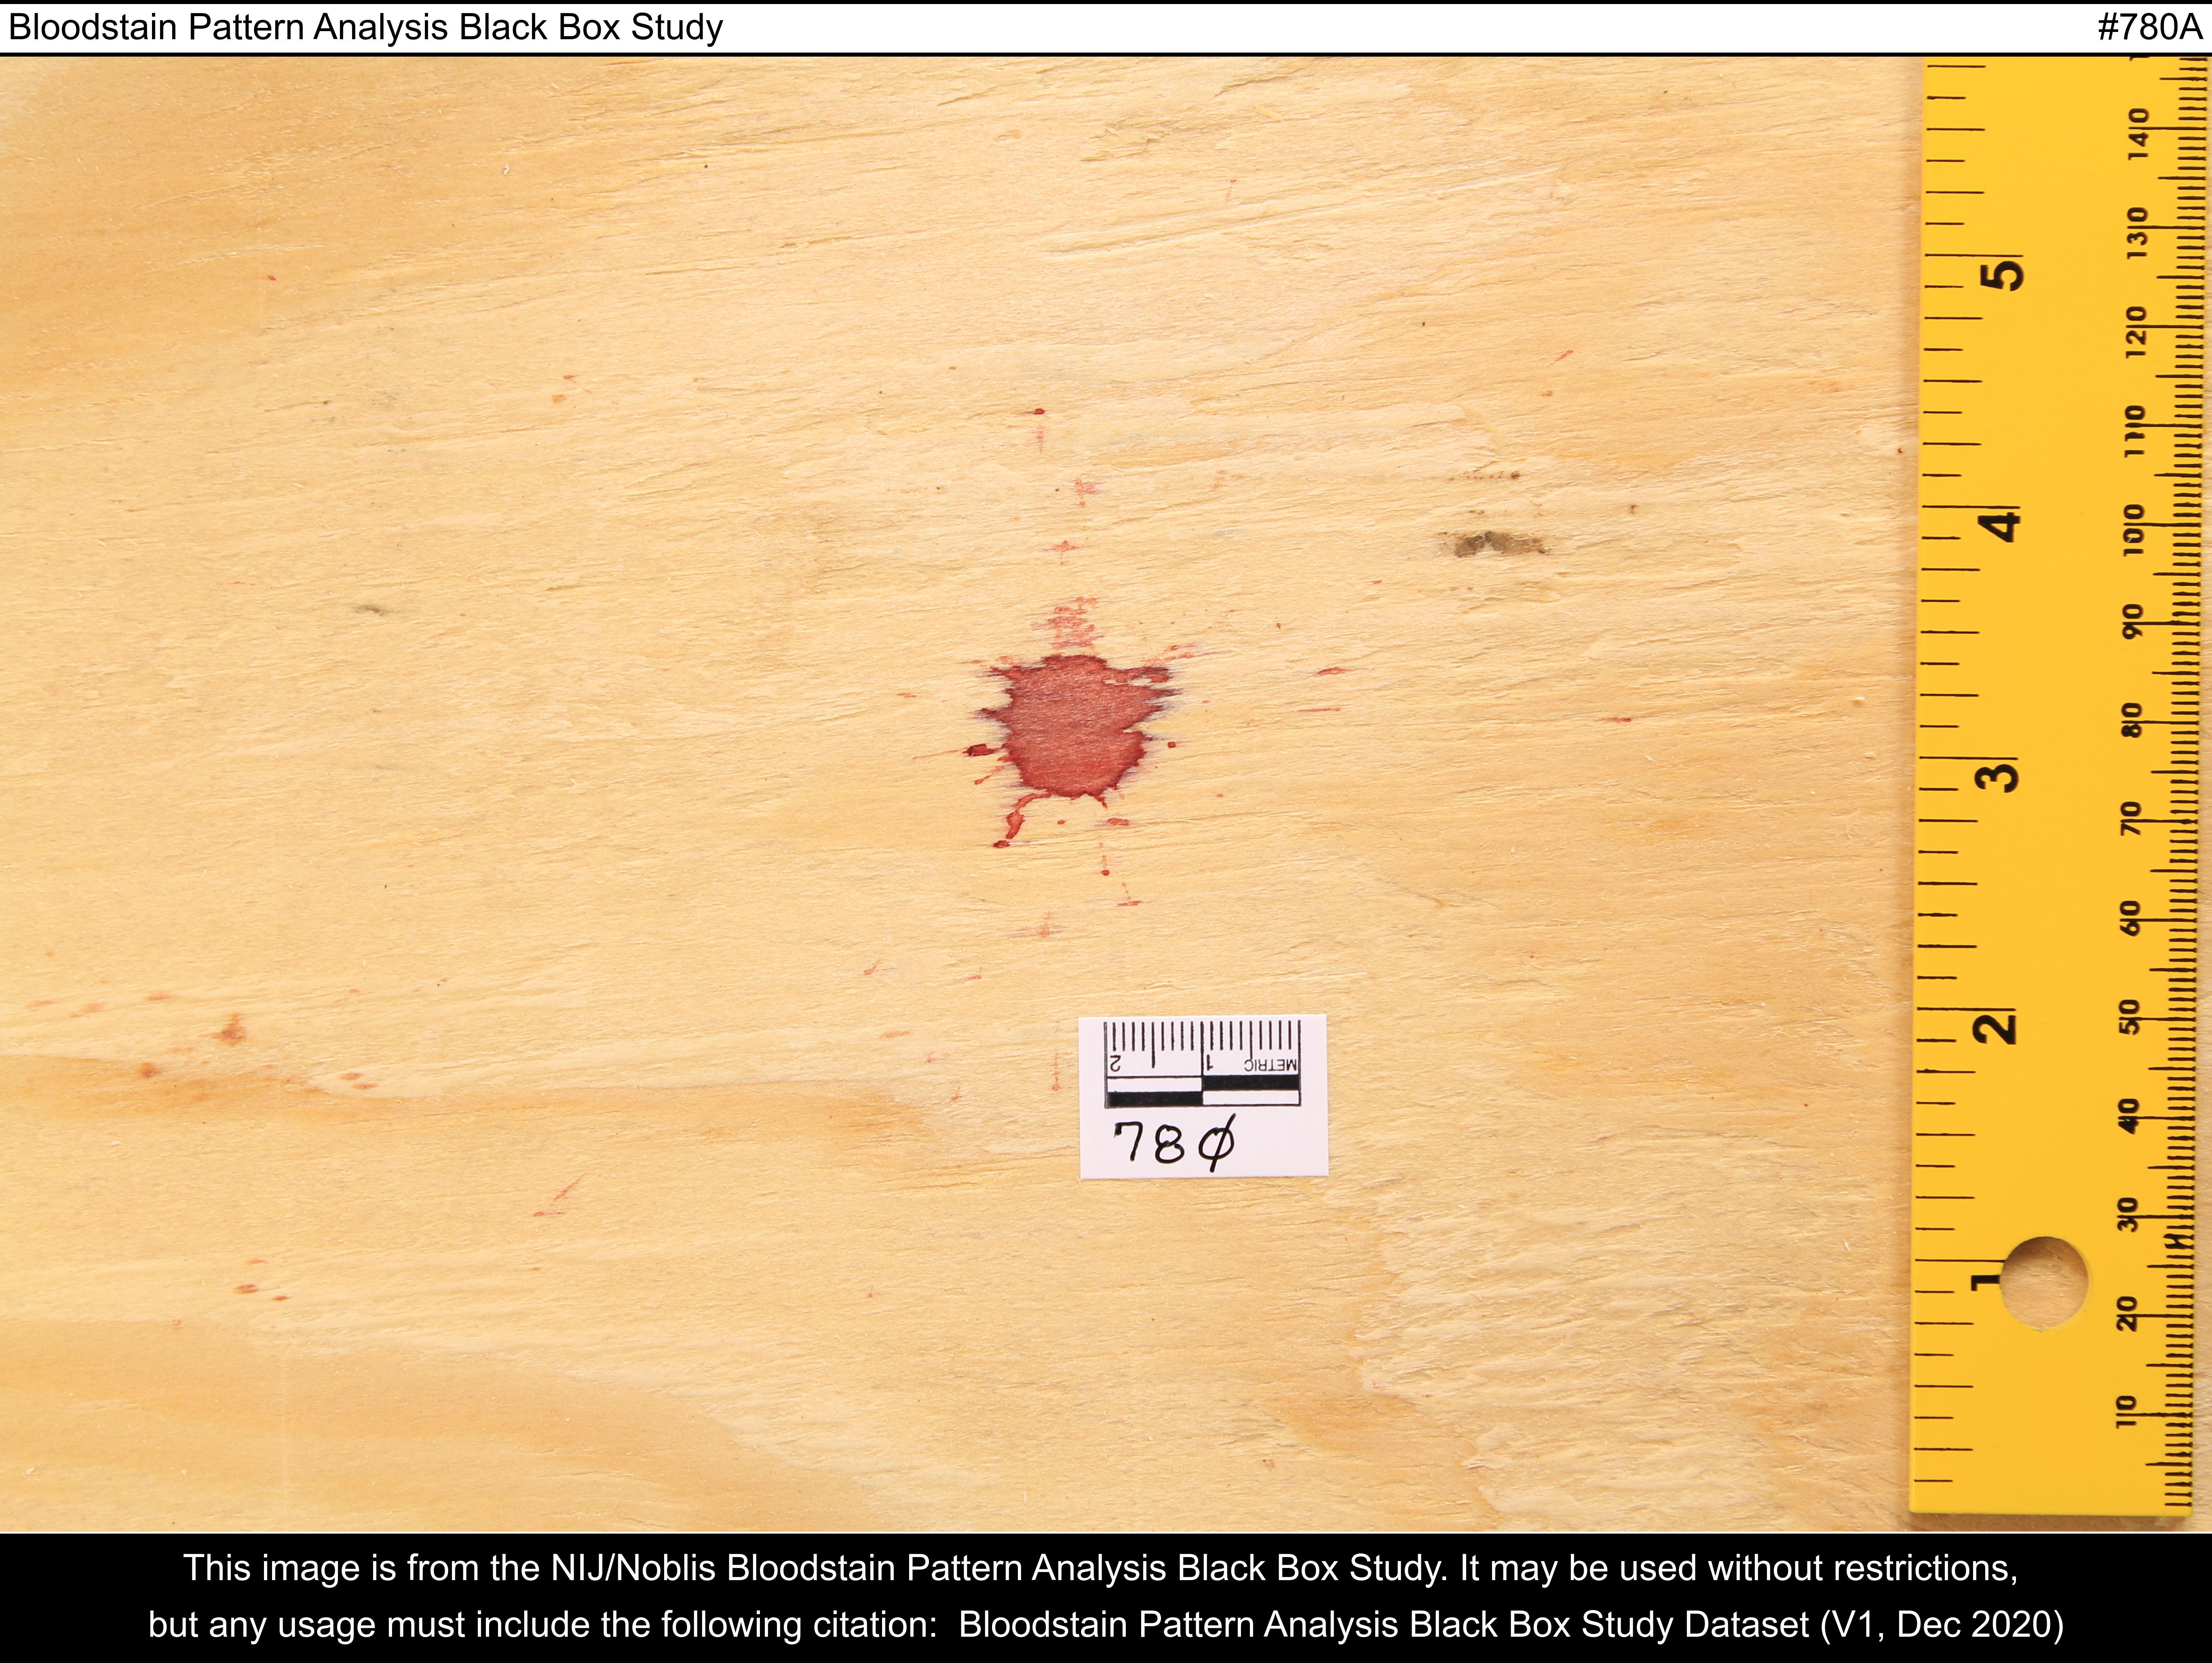Passive: (985, 606, 1166, 849)
